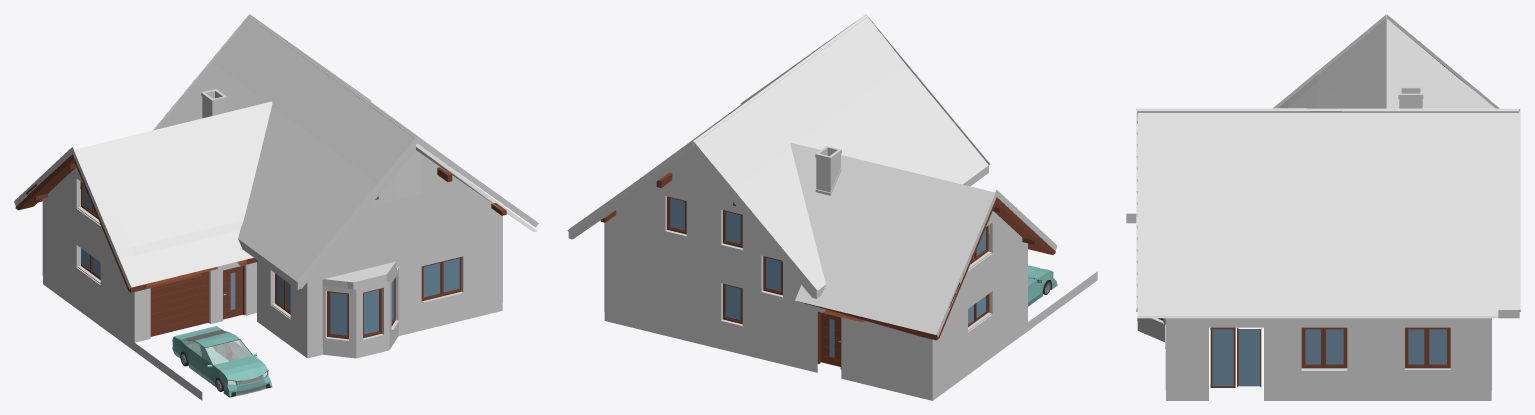
Rendered from Maxer_House.fbx.
3 renders of one model, left to right at view 1: azimuth 30°, elevation 25°; view 2: azimuth 150°, elevation 25°; view 3: azimuth 270°, elevation 25°, orthographic. The views are drawn at different scales.
Parts seen in each view (by area): view 1: Detaljer, Tak, Tak2, window.011, Cube, Tak-sida, Garage, Detalj, Dörr, Skorsten; view 2: Detaljer, Tak, Tak2, Tak-sida, Fönster3, Skorsten, Dörr, window.011, Cube; view 3: Tak, Detaljer, Tak2, window.011, Tak-sida, Skorsten.
Boxes of the visible parts, bbox=[...] form: Detaljer: bbox=[42, 147, 502, 400]; Tak: bbox=[156, 16, 537, 289]; Tak2: bbox=[15, 101, 272, 292]; window.011: bbox=[77, 182, 464, 341]; Cube: bbox=[172, 326, 272, 397]; Tak-sida: bbox=[14, 14, 538, 288]; Garage: bbox=[150, 271, 208, 336]; Detalj: bbox=[322, 261, 396, 289]; Dörr: bbox=[223, 266, 242, 319]; Skorsten: bbox=[201, 89, 226, 118]; Detaljer: bbox=[604, 155, 1097, 400]; Tak: bbox=[568, 17, 988, 298]; Tak2: bbox=[790, 143, 1055, 340]; Tak-sida: bbox=[567, 14, 1057, 336]; Fönster3: bbox=[664, 196, 782, 326]; Skorsten: bbox=[815, 146, 841, 195]; Dörr: bbox=[820, 313, 840, 366]; window.011: bbox=[664, 201, 991, 331]; Cube: bbox=[1028, 265, 1057, 306]; Tak: bbox=[1137, 111, 1519, 318]; Detaljer: bbox=[1126, 213, 1491, 400]; Tak2: bbox=[1278, 18, 1495, 108]; window.011: bbox=[1149, 318, 1450, 387]; Tak-sida: bbox=[1136, 14, 1520, 311]; Skorsten: bbox=[1398, 86, 1423, 108].
Bounding box in the file's own units: 15.5 × 9.02 × 12.93.
